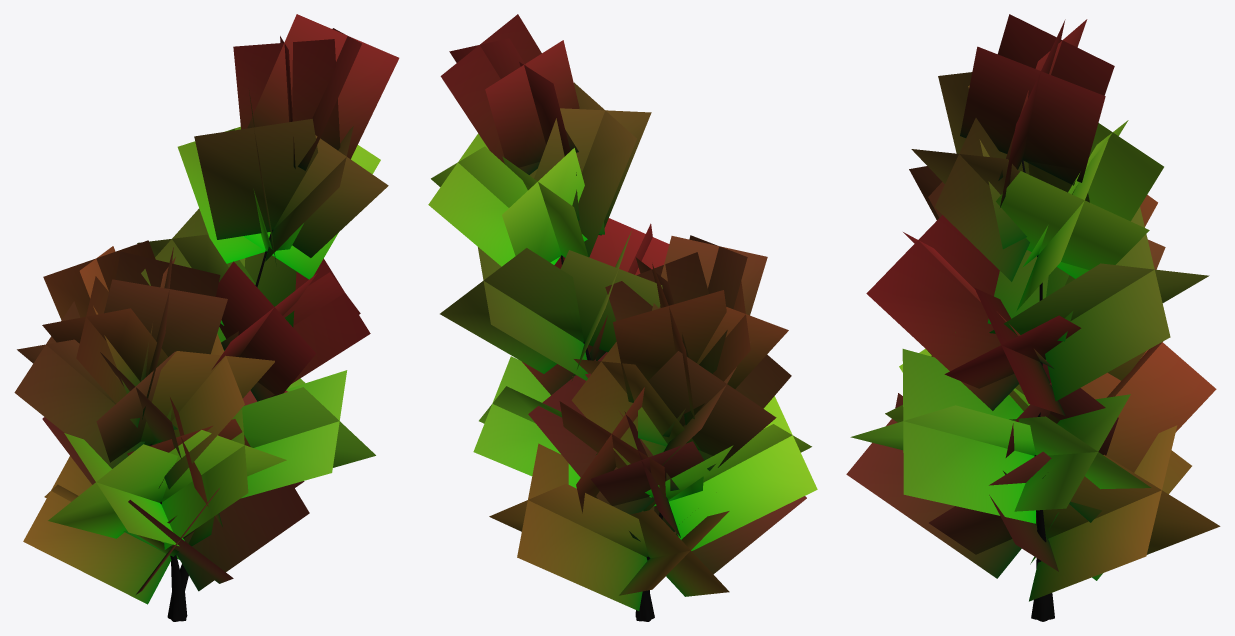
Rendered from S_Tree_10_12.fbx.
The picture shows the model from 3 angles, left to right: view 1: azimuth 30°, elevation 25°; view 2: azimuth 150°, elevation 25°; view 3: azimuth 270°, elevation 25°; orthographic projection. The views are drawn at different scales.
Parts seen in each view (by area): view 1: S_Tree_10_12; view 2: S_Tree_10_12; view 3: S_Tree_10_12.
Boxes of the visible parts, x1,y1,x2,y2 form: S_Tree_10_12: (14,14,399,621); S_Tree_10_12: (428,14,817,621); S_Tree_10_12: (846,14,1220,621).
Size of the model in its own units: 1704 by 2531 by 1278.
